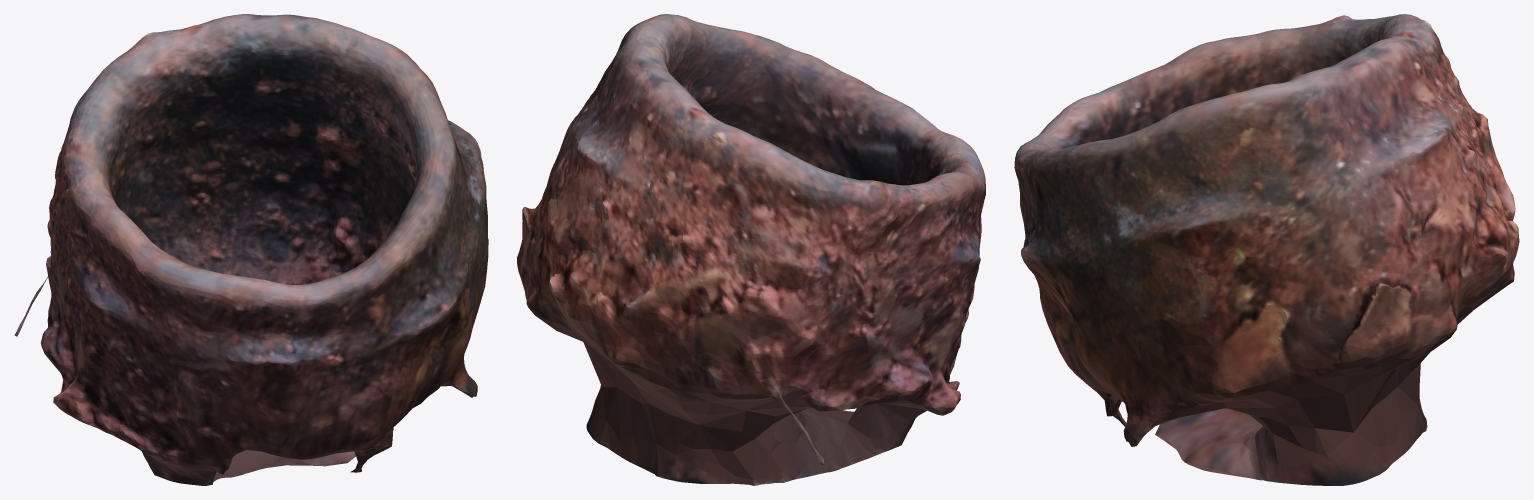
3 views of the same model, side by side, from view 1: azimuth 30°, elevation 25°; view 2: azimuth 150°, elevation 25°; view 3: azimuth 270°, elevation 25° (orthographic). The views are drawn at different scales.
Bounding box in the file's own units: 0.4846 × 0.4297 × 0.5016.
Materials: 1 (1 with a texture image).
